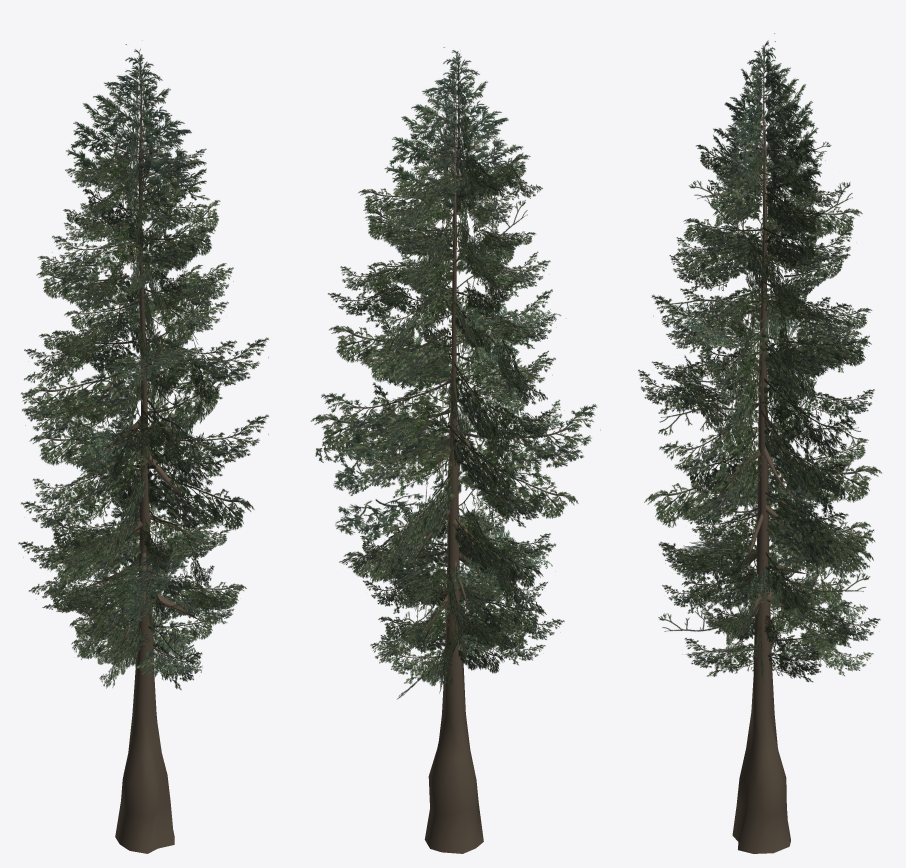
File: pine_a.glb
3 views of the same model, side by side, from view 1: azimuth 30°, elevation 25°; view 2: azimuth 150°, elevation 25°; view 3: azimuth 270°, elevation 25° (orthographic).
Parts seen in each view (by area): view 1: Tree_Branches_01_w; view 2: Tree_Branches_01_w; view 3: Tree_Branches_01_w.
Part boxes in pixels (x1=…): Tree_Branches_01_w: x1=18, y1=40, x2=268, y2=853; Tree_Branches_01_w: x1=311, y1=47, x2=600, y2=853; Tree_Branches_01_w: x1=638, y1=33, x2=882, y2=853.
Size of the model in its own units: 6.76 by 22 by 6.48.
2 materials, 2 textured.
